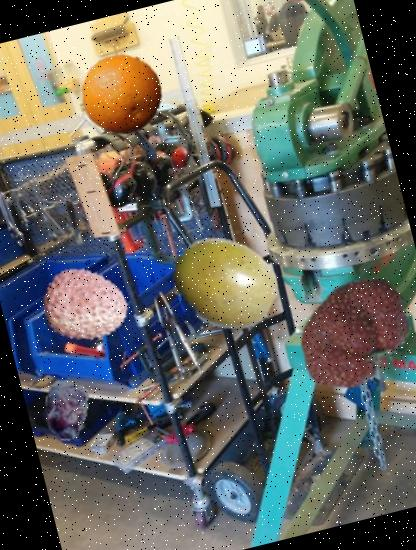Dates: (30, 374, 103, 447)
Lychee: (35, 256, 138, 358)
Maracuja: (159, 218, 292, 350)
Orange: (71, 45, 173, 146)
Strawberry: (279, 261, 416, 413)
